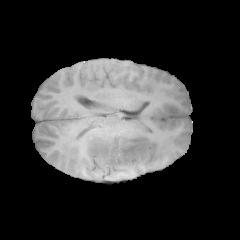glioma: (63, 111, 150, 169)
